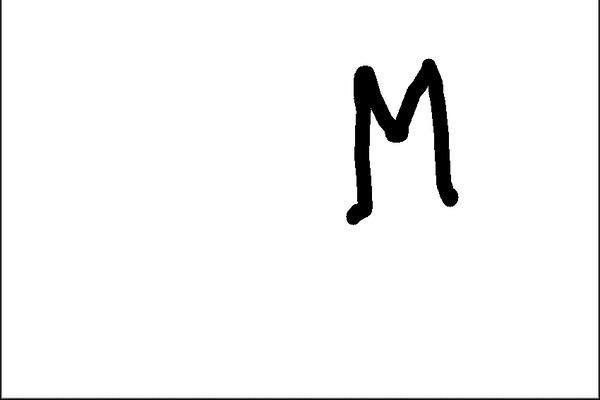M: (345, 52, 459, 229)
